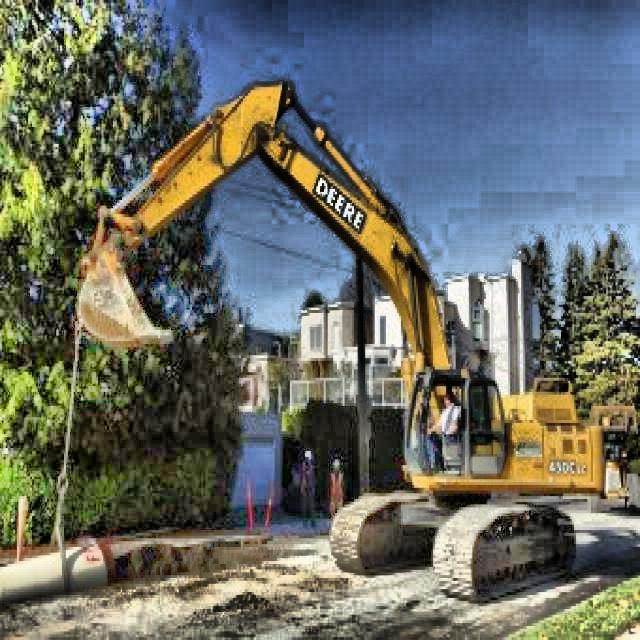bull_dozer/loader/grader: (69, 72, 614, 606)
person: (426, 390, 469, 470)
